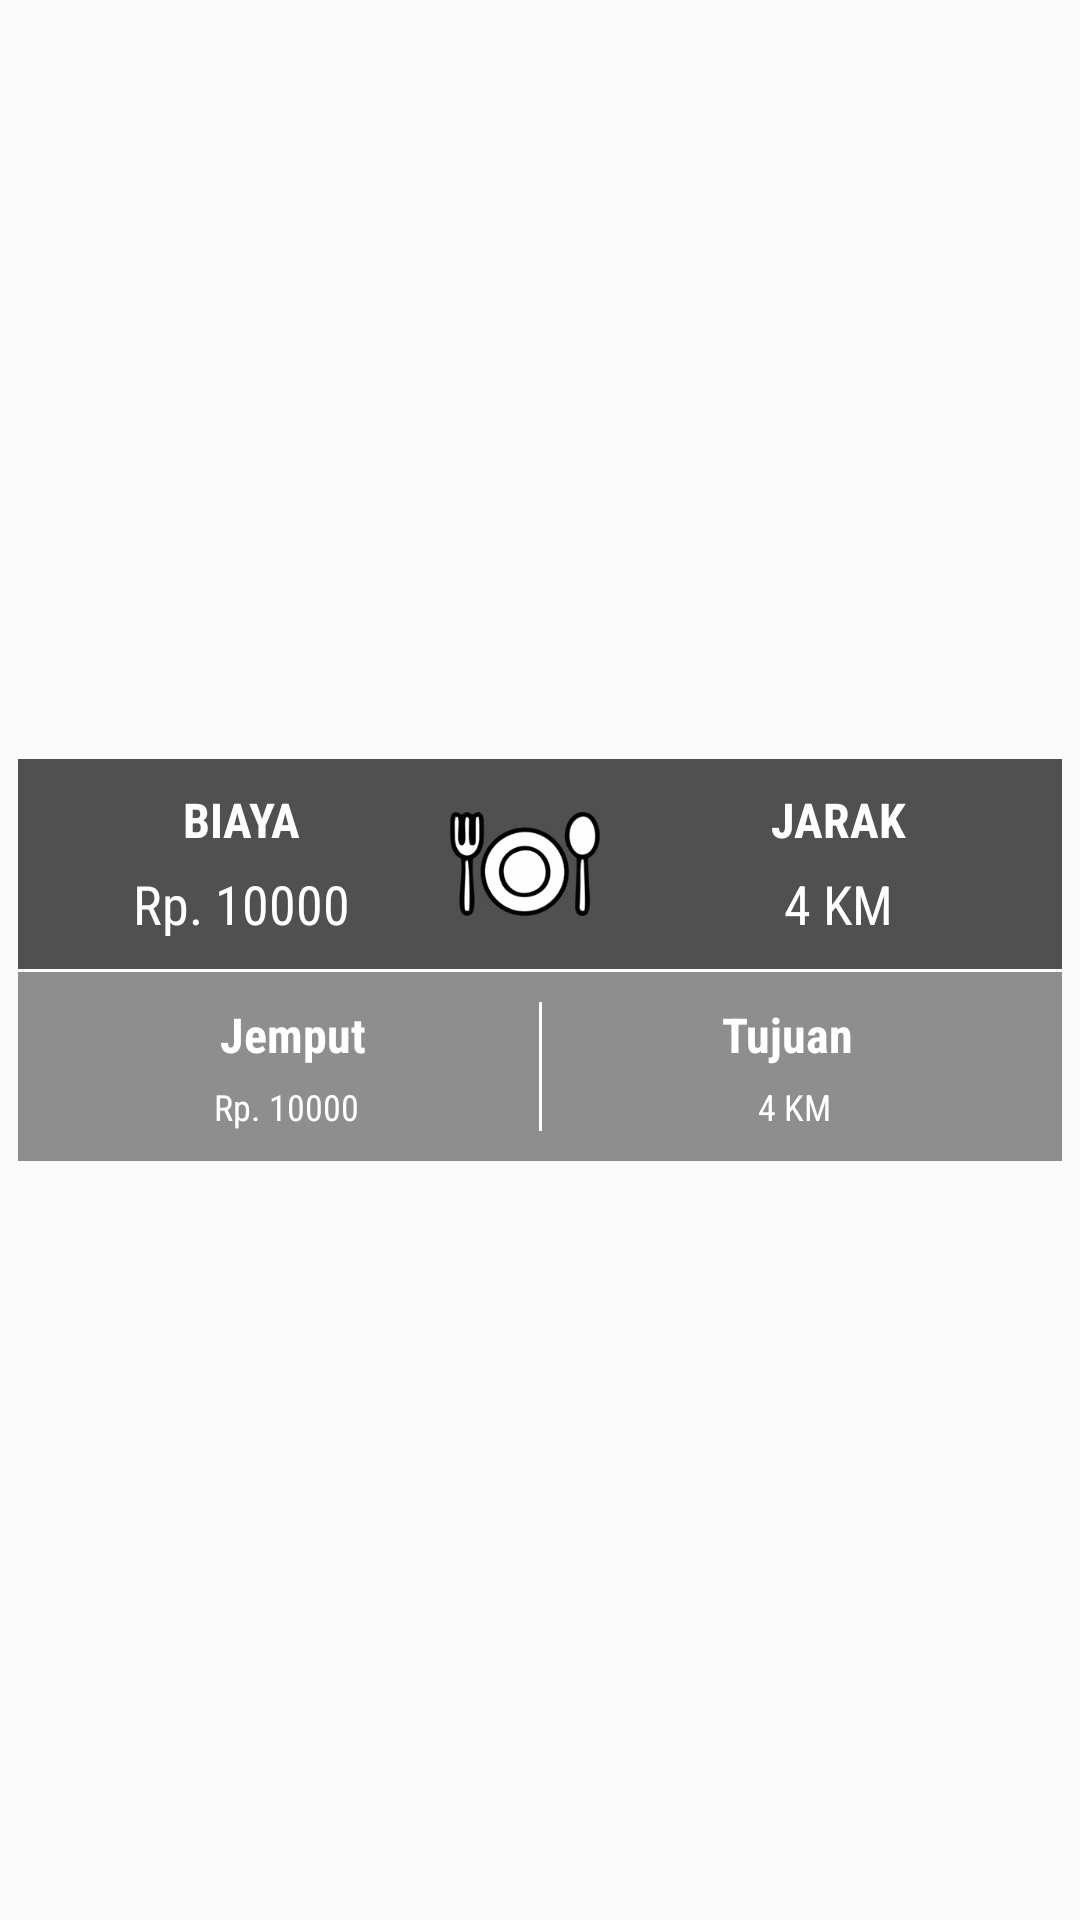

Screen size 1080*1920. Icon name, then its center in pixels as (x=x, y=y):
food: (x=525, y=864)
